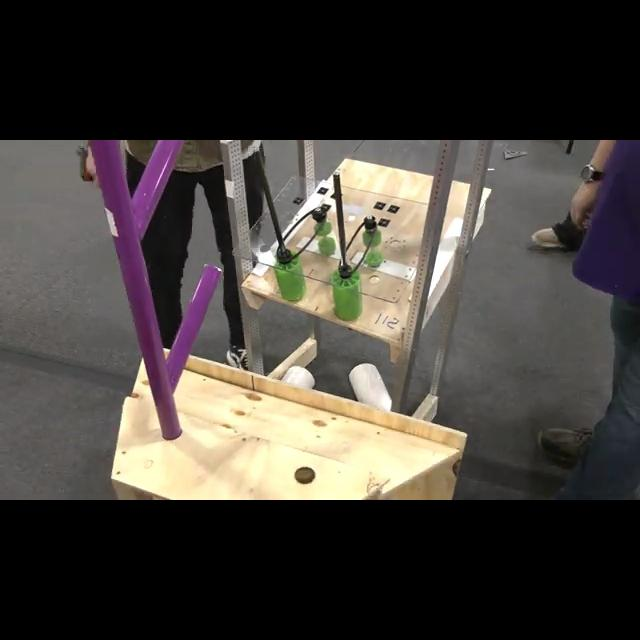CORAL: (350, 361, 394, 412), (282, 364, 314, 390)
